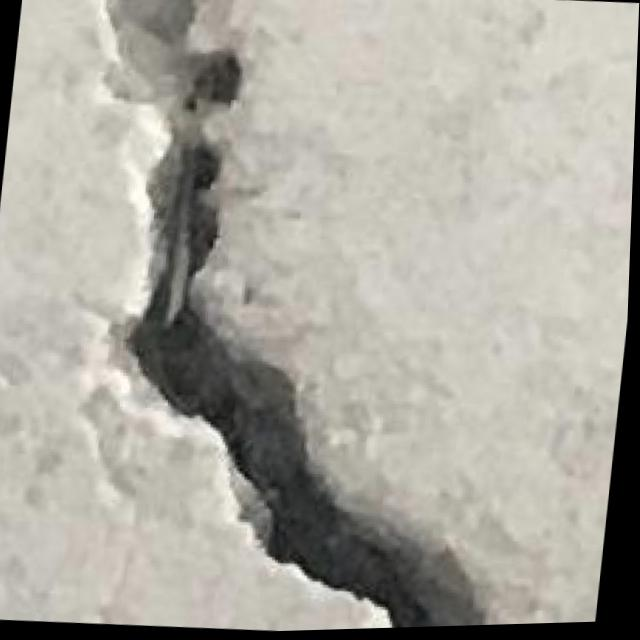Crack: (24, 0, 580, 639)
